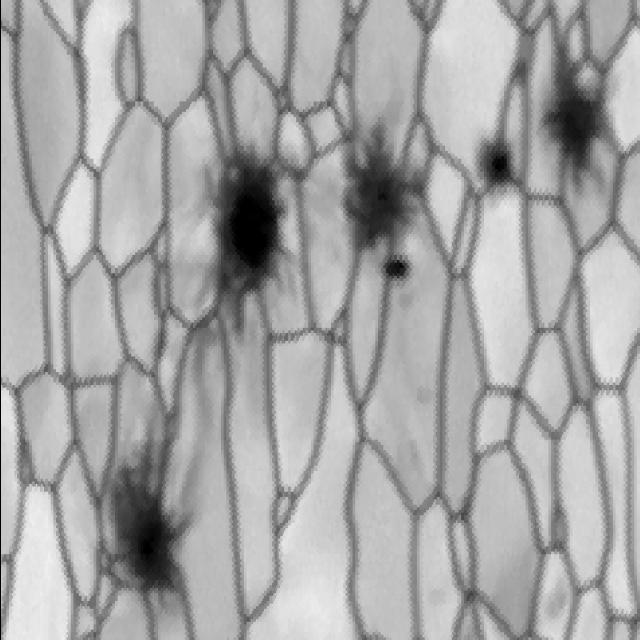good_void: (179, 104, 299, 356), (82, 407, 197, 613), (533, 35, 622, 203), (333, 112, 426, 259), (469, 130, 517, 201), (540, 573, 564, 630), (377, 256, 410, 288), (424, 586, 447, 618)
